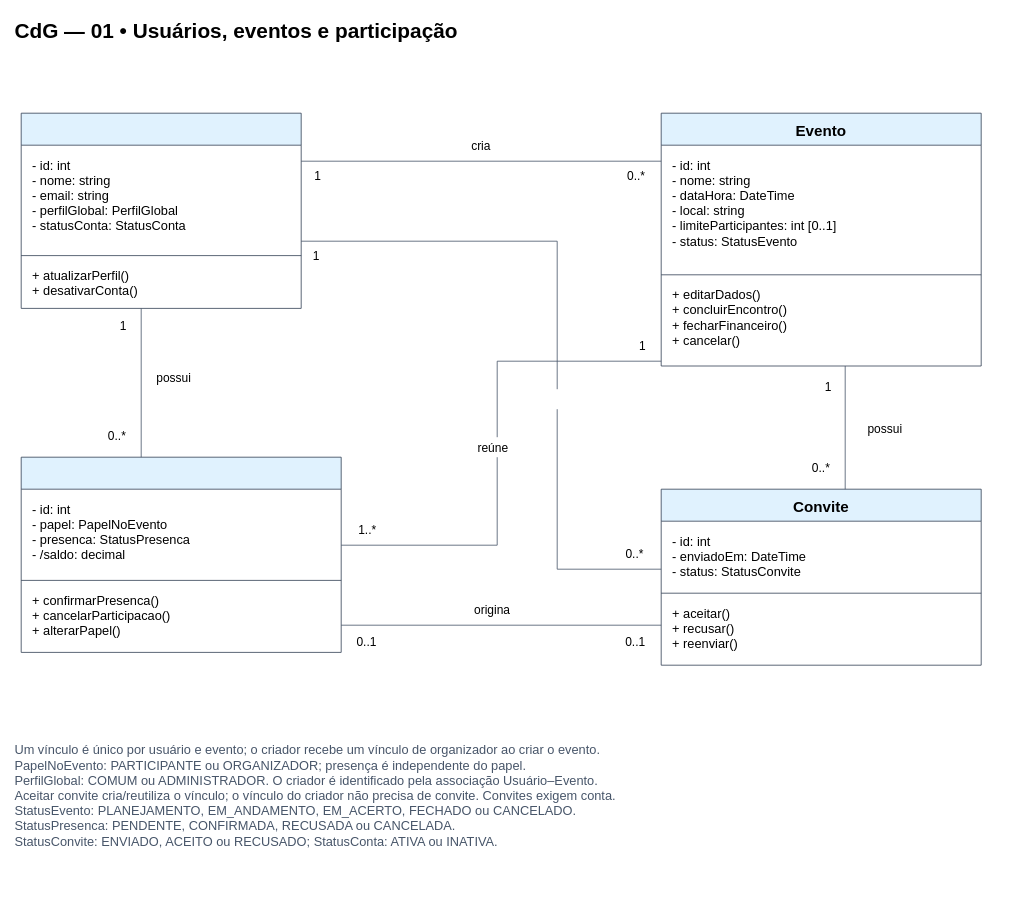
This 1026x914 diagram has some shape labels left out. The shapes that lost their labels are listed below. From the top down, each one's box as (x1, y1, x2, y2) in pixels, then its label:
(20, 112, 301, 308): Usuário
(498, 389, 616, 409): é destinatário de
(20, 456, 341, 652): VínculoEvento
